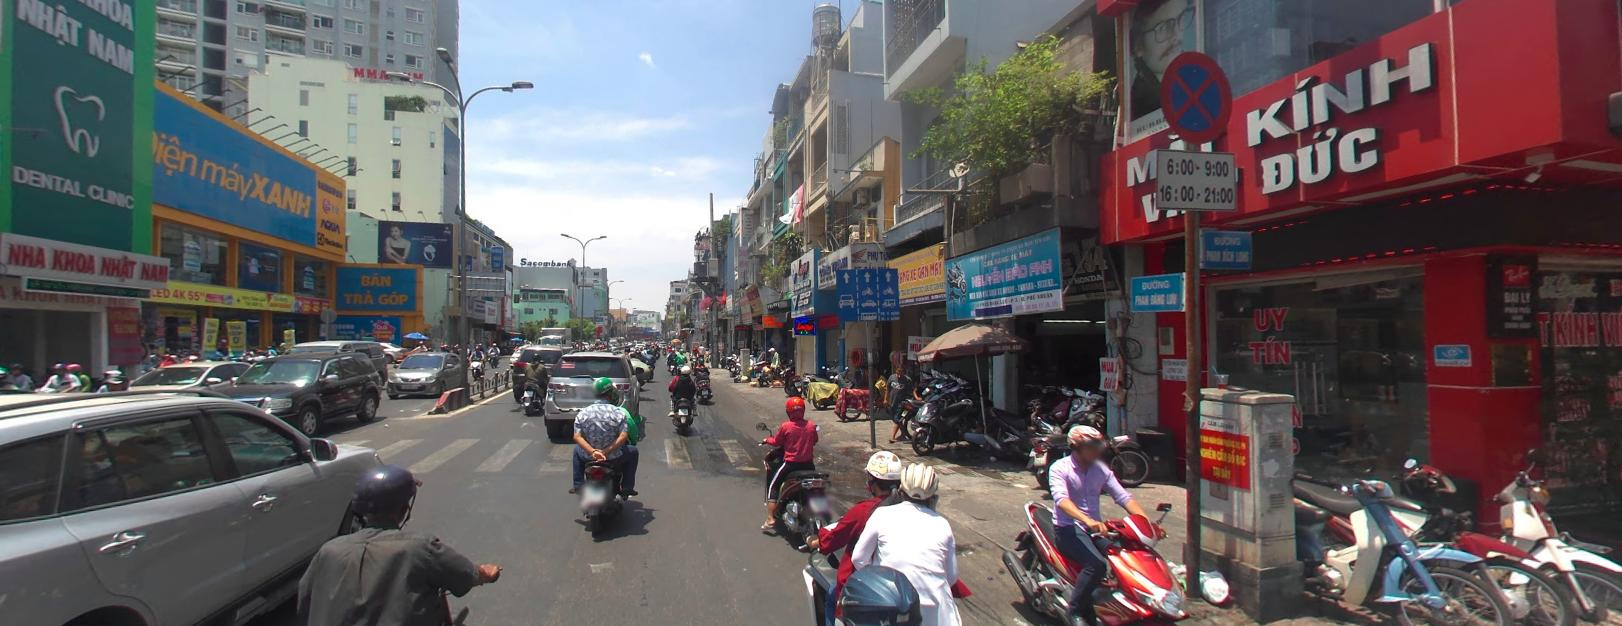Cam dung va do: (1158, 47, 1235, 143)
